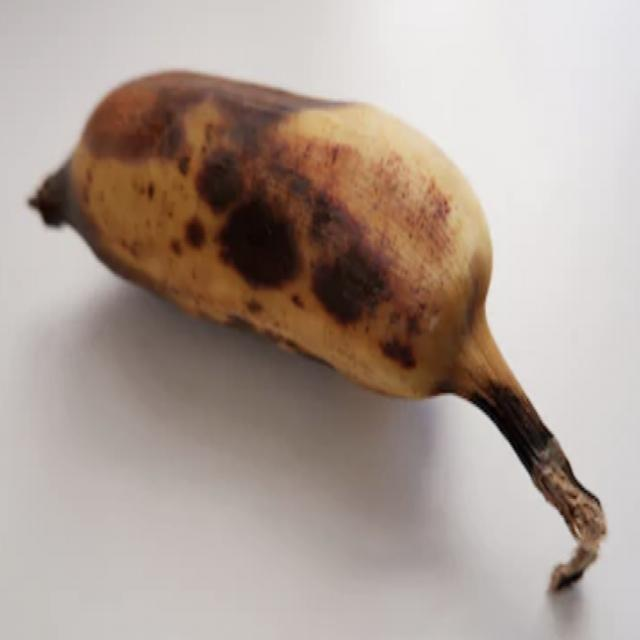rotten-banana: (41, 64, 529, 404)
